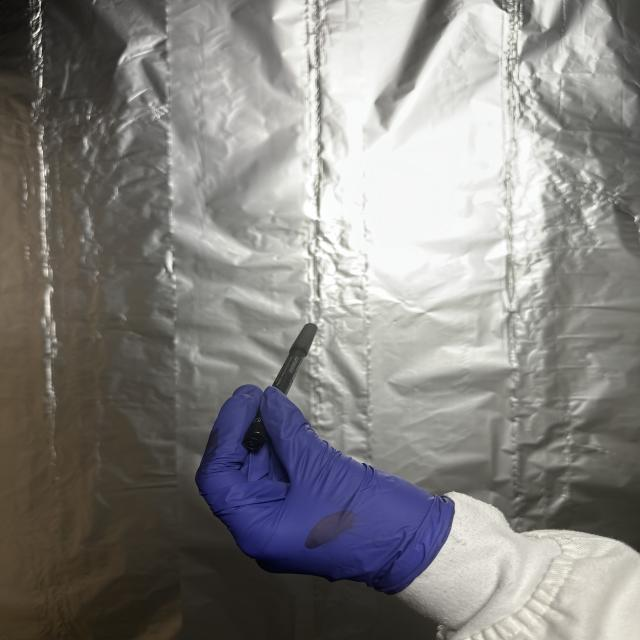gloves_contaminated: (196, 385, 454, 594)
